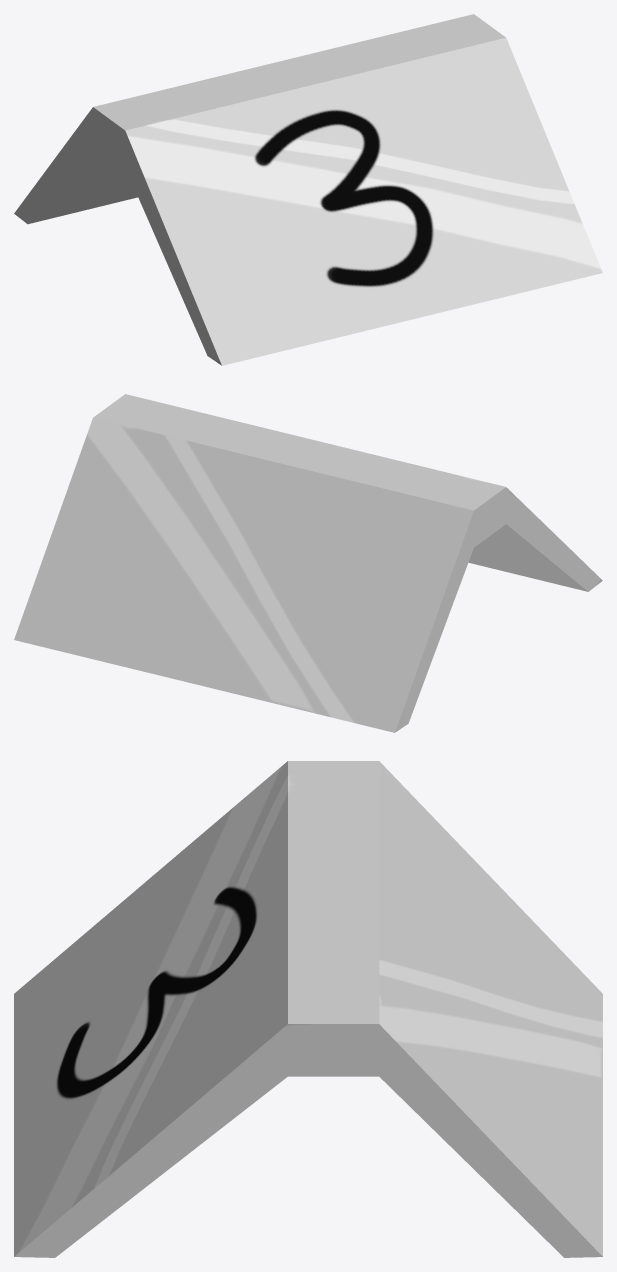
Rendered from MFC number card 3.fbx.
3 views of the same model, one above another, from view 1: azimuth 30°, elevation 25°; view 2: azimuth 150°, elevation 25°; view 3: azimuth 270°, elevation 25° (orthographic). The views are drawn at different scales.
Parts seen in each view (by area): view 1: Cube; view 2: Cube; view 3: Cube.
Part boxes in pixels (left/top/right/bottom): Cube: left=14, top=14, right=602, bottom=365; Cube: left=14, top=394, right=602, bottom=732; Cube: left=14, top=761, right=602, bottom=1257.
Size of the model in its own units: 104 by 43.05 by 98.27.
